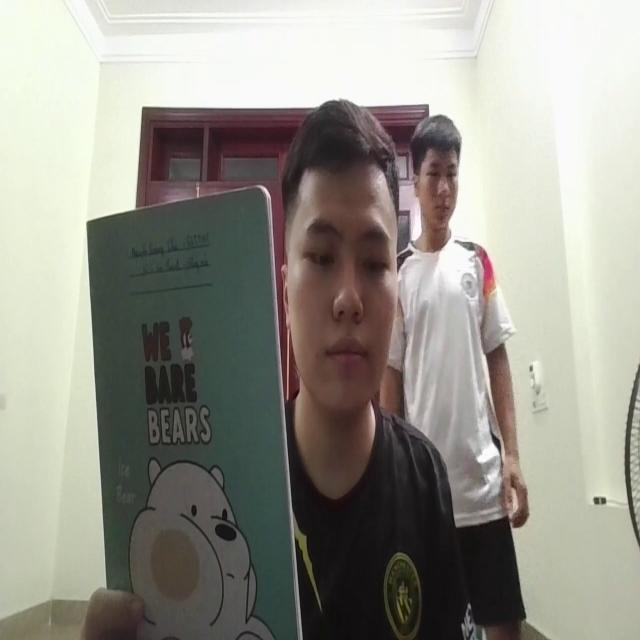book: (86, 194, 286, 624)
extra_person: (396, 118, 516, 518)
student: (281, 108, 423, 640)
